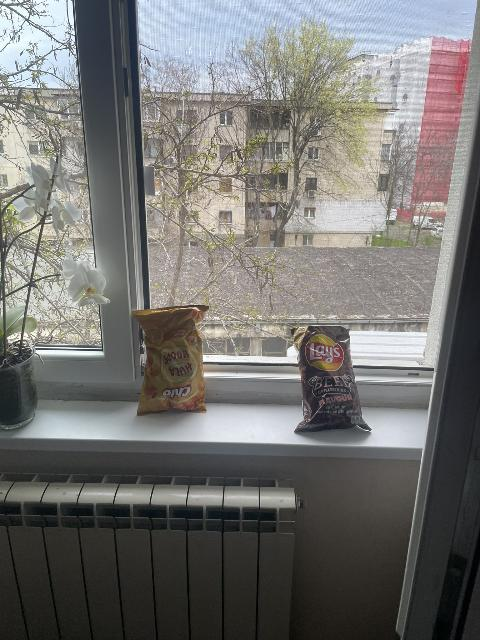Chio Hula Hoops Cheese 70g: (132, 308, 210, 412)
Lays Beef Grilled Ribs 125g: (295, 325, 372, 434)
